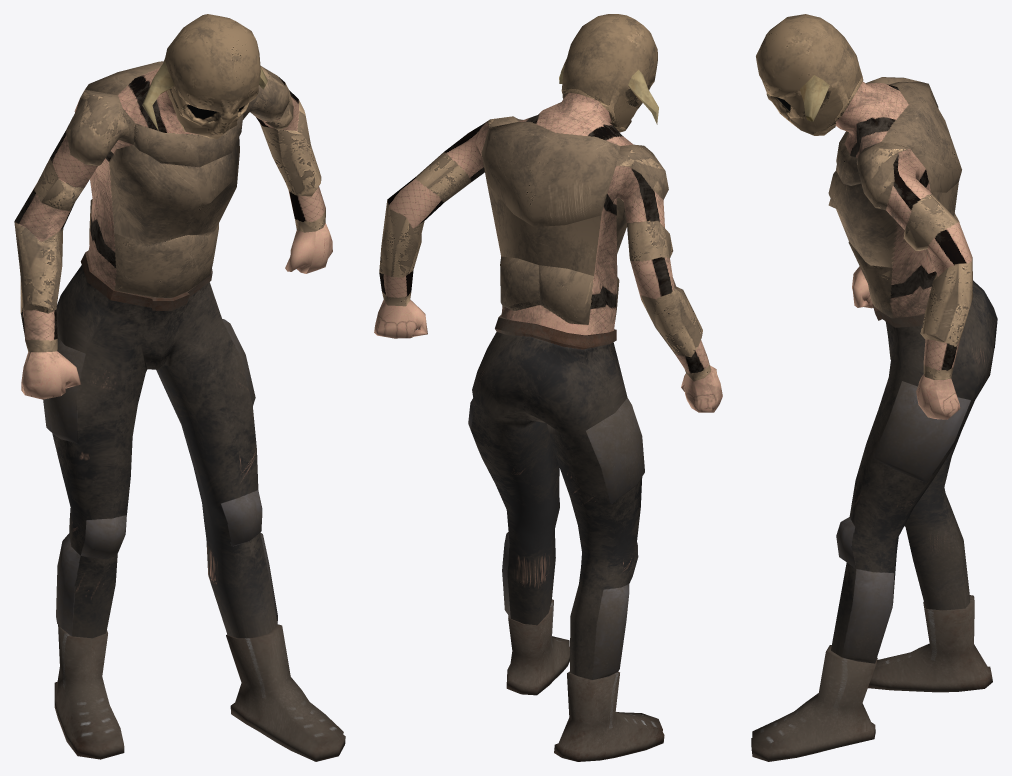
The model's file is Anim_cogerobjeto_npc1.0021.obj.
The picture shows the model from 3 angles, left to right: view 1: azimuth 30°, elevation 25°; view 2: azimuth 150°, elevation 25°; view 3: azimuth 270°, elevation 25°; orthographic projection. The views are drawn at different scales.
Parts seen in each view (by area): view 1: NPC2; view 2: NPC2; view 3: NPC2.
Boxes of the visible parts, <box> form: NPC2: <box>14,14,345,761</box>; NPC2: <box>374,14,722,761</box>; NPC2: <box>751,14,997,761</box>.
Bounding box in the file's own units: 4.4 × 9.19 × 2.94.
